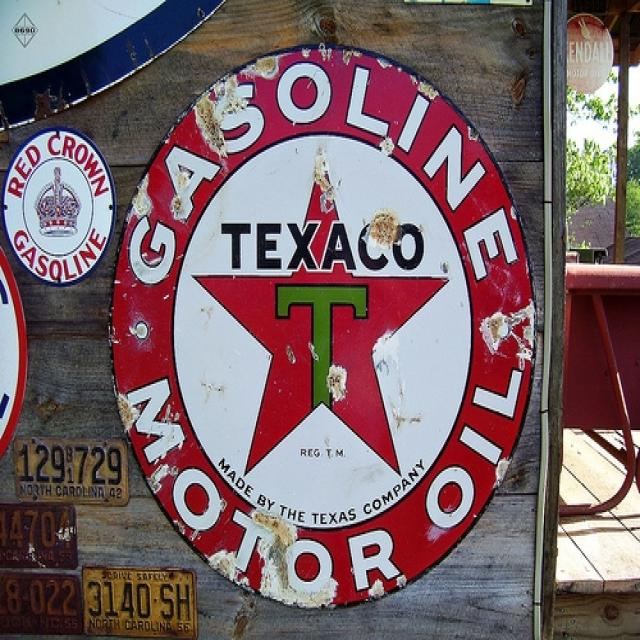texaco: (174, 134, 476, 528)
